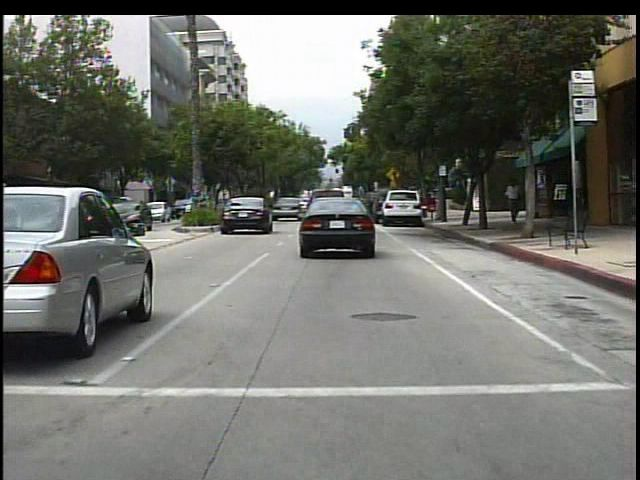person: (502, 179, 524, 226)
